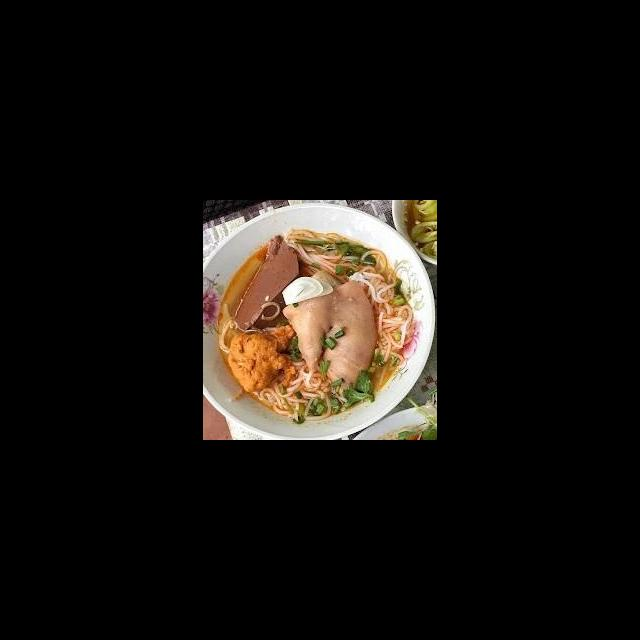bun: (358, 247, 416, 371), (283, 226, 389, 283), (257, 358, 336, 424)
